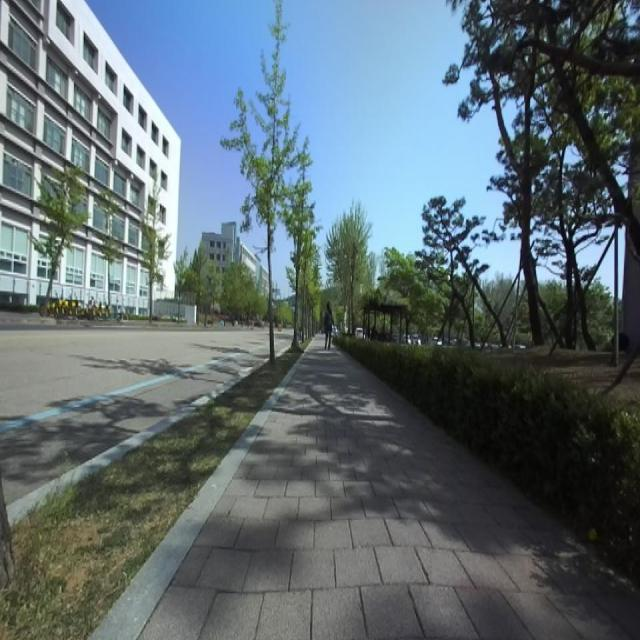sidewalk: (142, 335, 640, 639), (89, 352, 306, 640)
